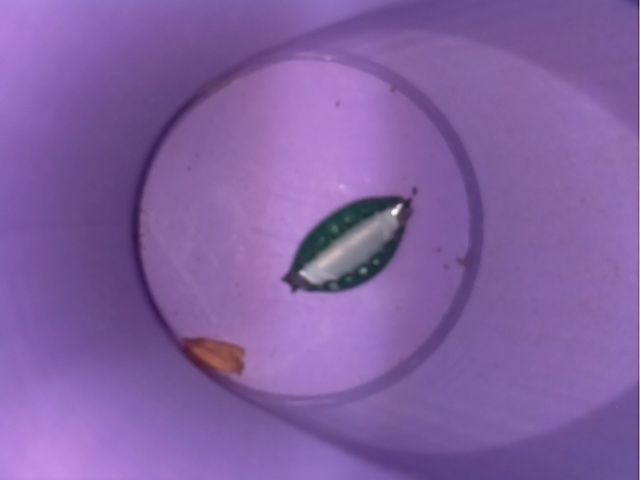capsule: (277, 185, 416, 305)
croquette: (174, 322, 262, 392)
